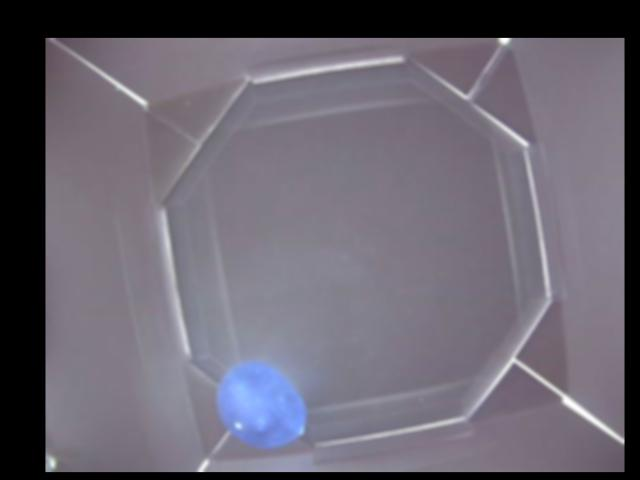Potato: (213, 359, 306, 445)
